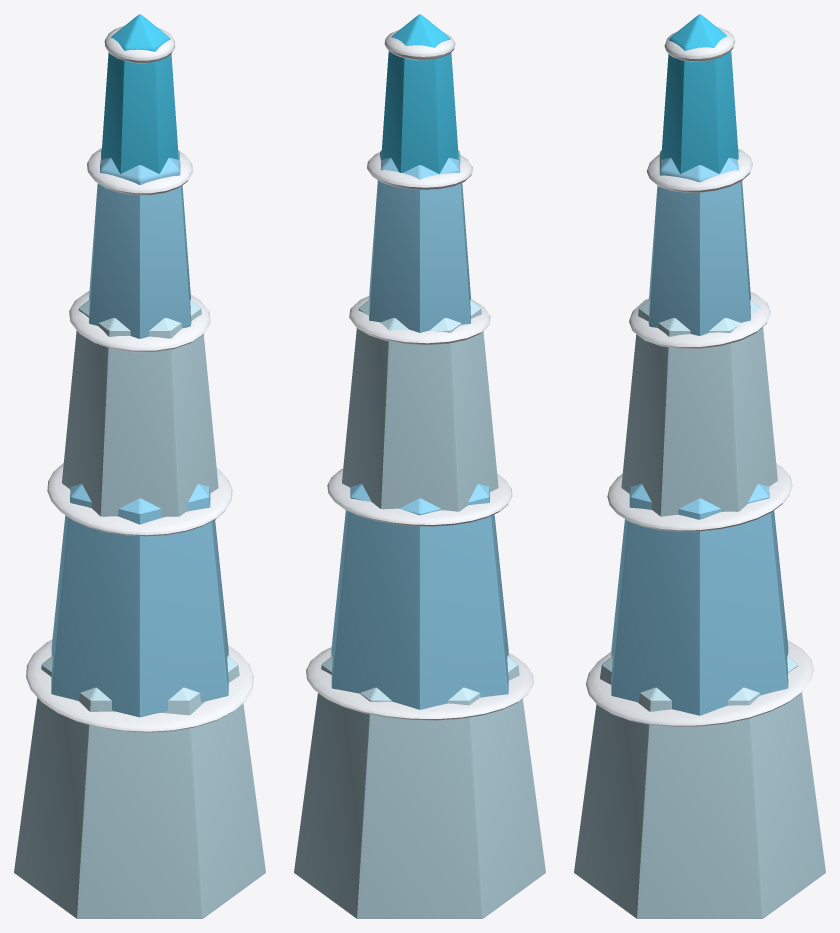
Rendered from TempleSpire.glb.
The picture shows the model from 3 angles, left to right: view 1: azimuth 30°, elevation 25°; view 2: azimuth 150°, elevation 25°; view 3: azimuth 270°, elevation 25°; orthographic projection.
Visible parts, largest first — view 1: TempleSpire; view 2: TempleSpire; view 3: TempleSpire.
Boxes of the visible parts, bbox=[...] form: TempleSpire: bbox=[14, 14, 265, 918]; TempleSpire: bbox=[294, 14, 545, 918]; TempleSpire: bbox=[574, 14, 825, 918].
Bounding box in the file's own units: 16.71 × 69.2 × 18.39.
Materials: 1 (1 with a texture image).
